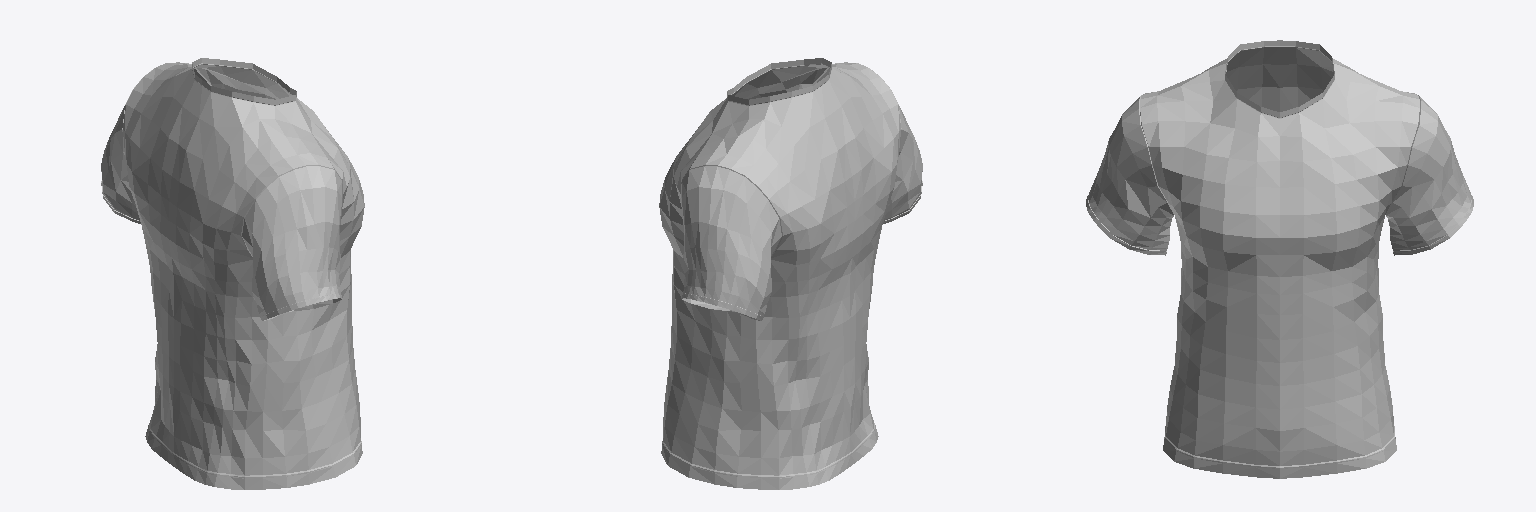
Rendered from Tshirt.obj.
3 renders of one model, left to right at view 1: azimuth 30°, elevation 25°; view 2: azimuth 150°, elevation 25°; view 3: azimuth 270°, elevation 25°, orthographic.
Parts seen in each view (by area): view 1: Plane_Plane.008; view 2: Plane_Plane.008; view 3: Plane_Plane.008.
Part boxes in pixels (x1,y1,x2,y2): Plane_Plane.008: (101, 58, 364, 489); Plane_Plane.008: (659, 58, 922, 489); Plane_Plane.008: (1086, 40, 1473, 478).
Bounding box in the file's own units: 0.5337 × 1.1 × 1.02.